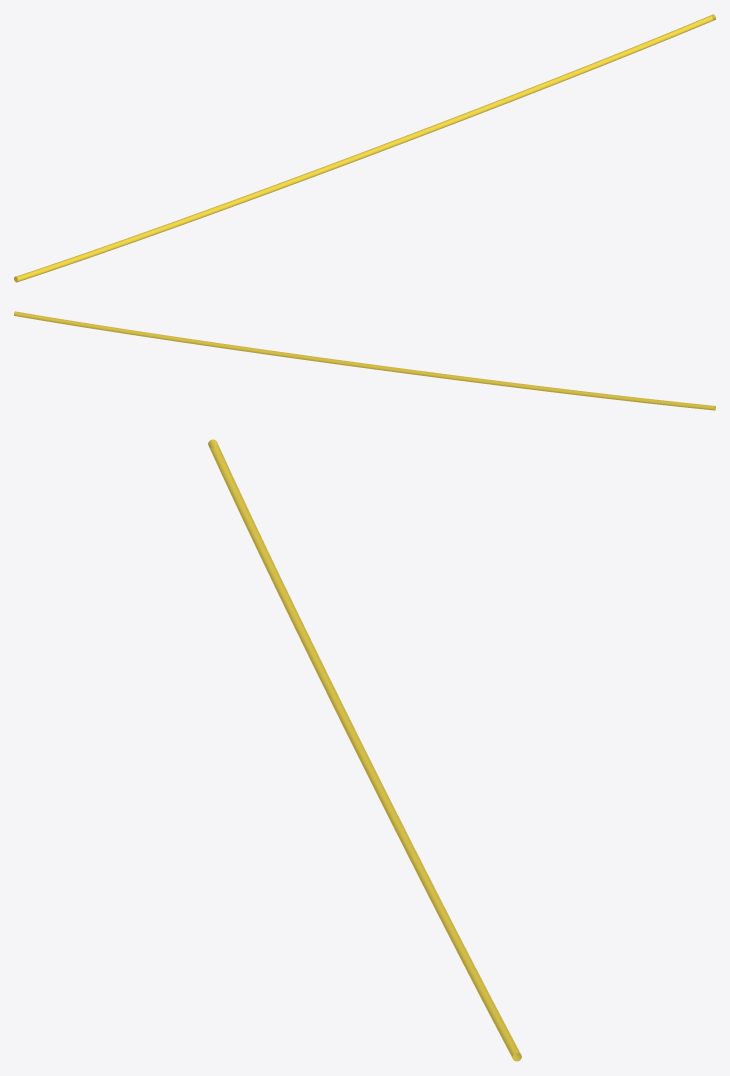
File: Event_17758602_track_40.fbx
3 renders of one model, top to bottom at view 1: azimuth 30°, elevation 25°; view 2: azimuth 150°, elevation 25°; view 3: azimuth 270°, elevation 25°, orthographic. The views are drawn at different scales.
Parts seen in each view (by area): view 1: Model; view 2: Model; view 3: Model.
Part boxes in pixels (<box>): Model: <box>14,14,715,282</box>; Model: <box>14,311,715,410</box>; Model: <box>208,439,521,1061</box>.
Bounding box in the file's own units: 6.09 × 0.0951 × 1.32.
